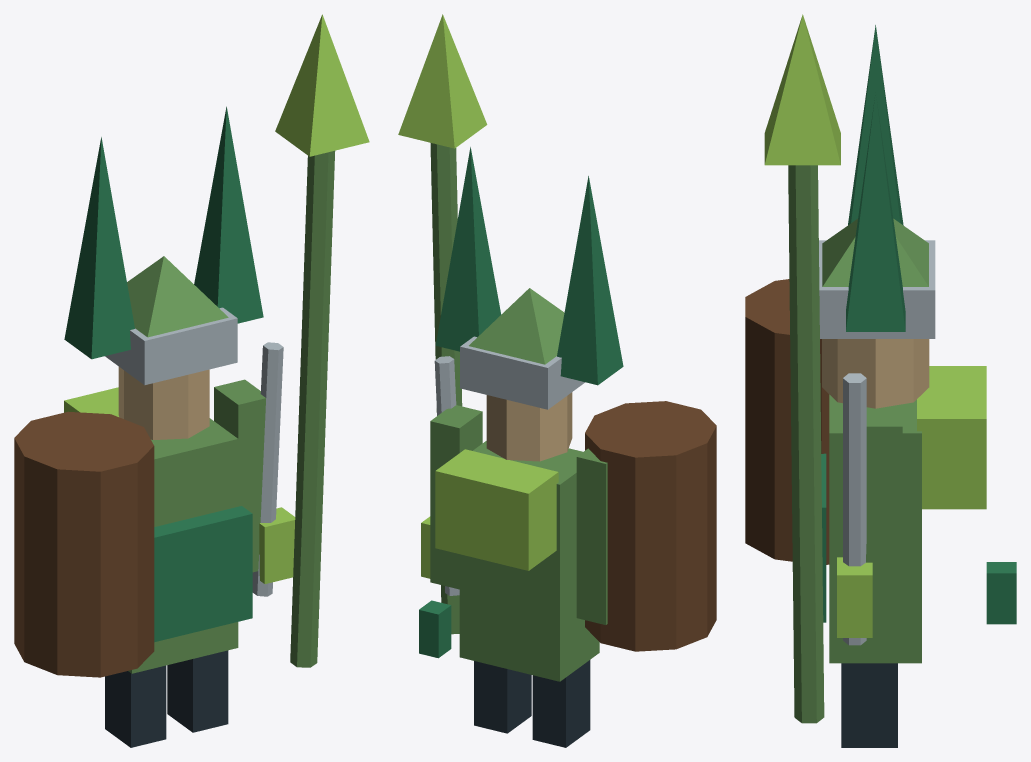
Rendered from stone-spearman.obj.
3 renders of one model, left to right at view 1: azimuth 30°, elevation 25°; view 2: azimuth 150°, elevation 25°; view 3: azimuth 270°, elevation 25°, orthographic. The views are drawn at different scales.
Visible parts, largest first — view 1: infantry; view 2: infantry; view 3: infantry.
Part boxes in pixels (x1,y1,x2,y2): infantry: [14, 14, 369, 747]; infantry: [398, 14, 716, 747]; infantry: [745, 14, 1016, 747].
Bounding box in the file's own units: 1.22 × 2.58 × 0.8181.
